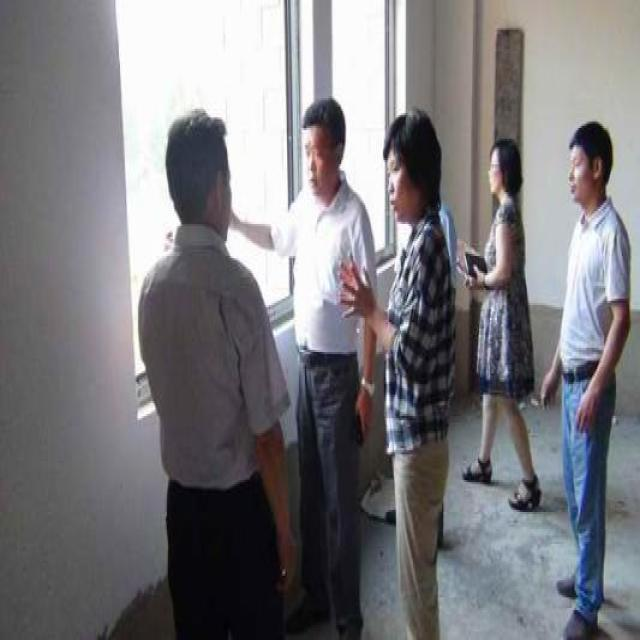no-helmet: (160, 98, 237, 243), (381, 105, 442, 232), (561, 115, 617, 214), (296, 92, 351, 190), (486, 134, 521, 209)
